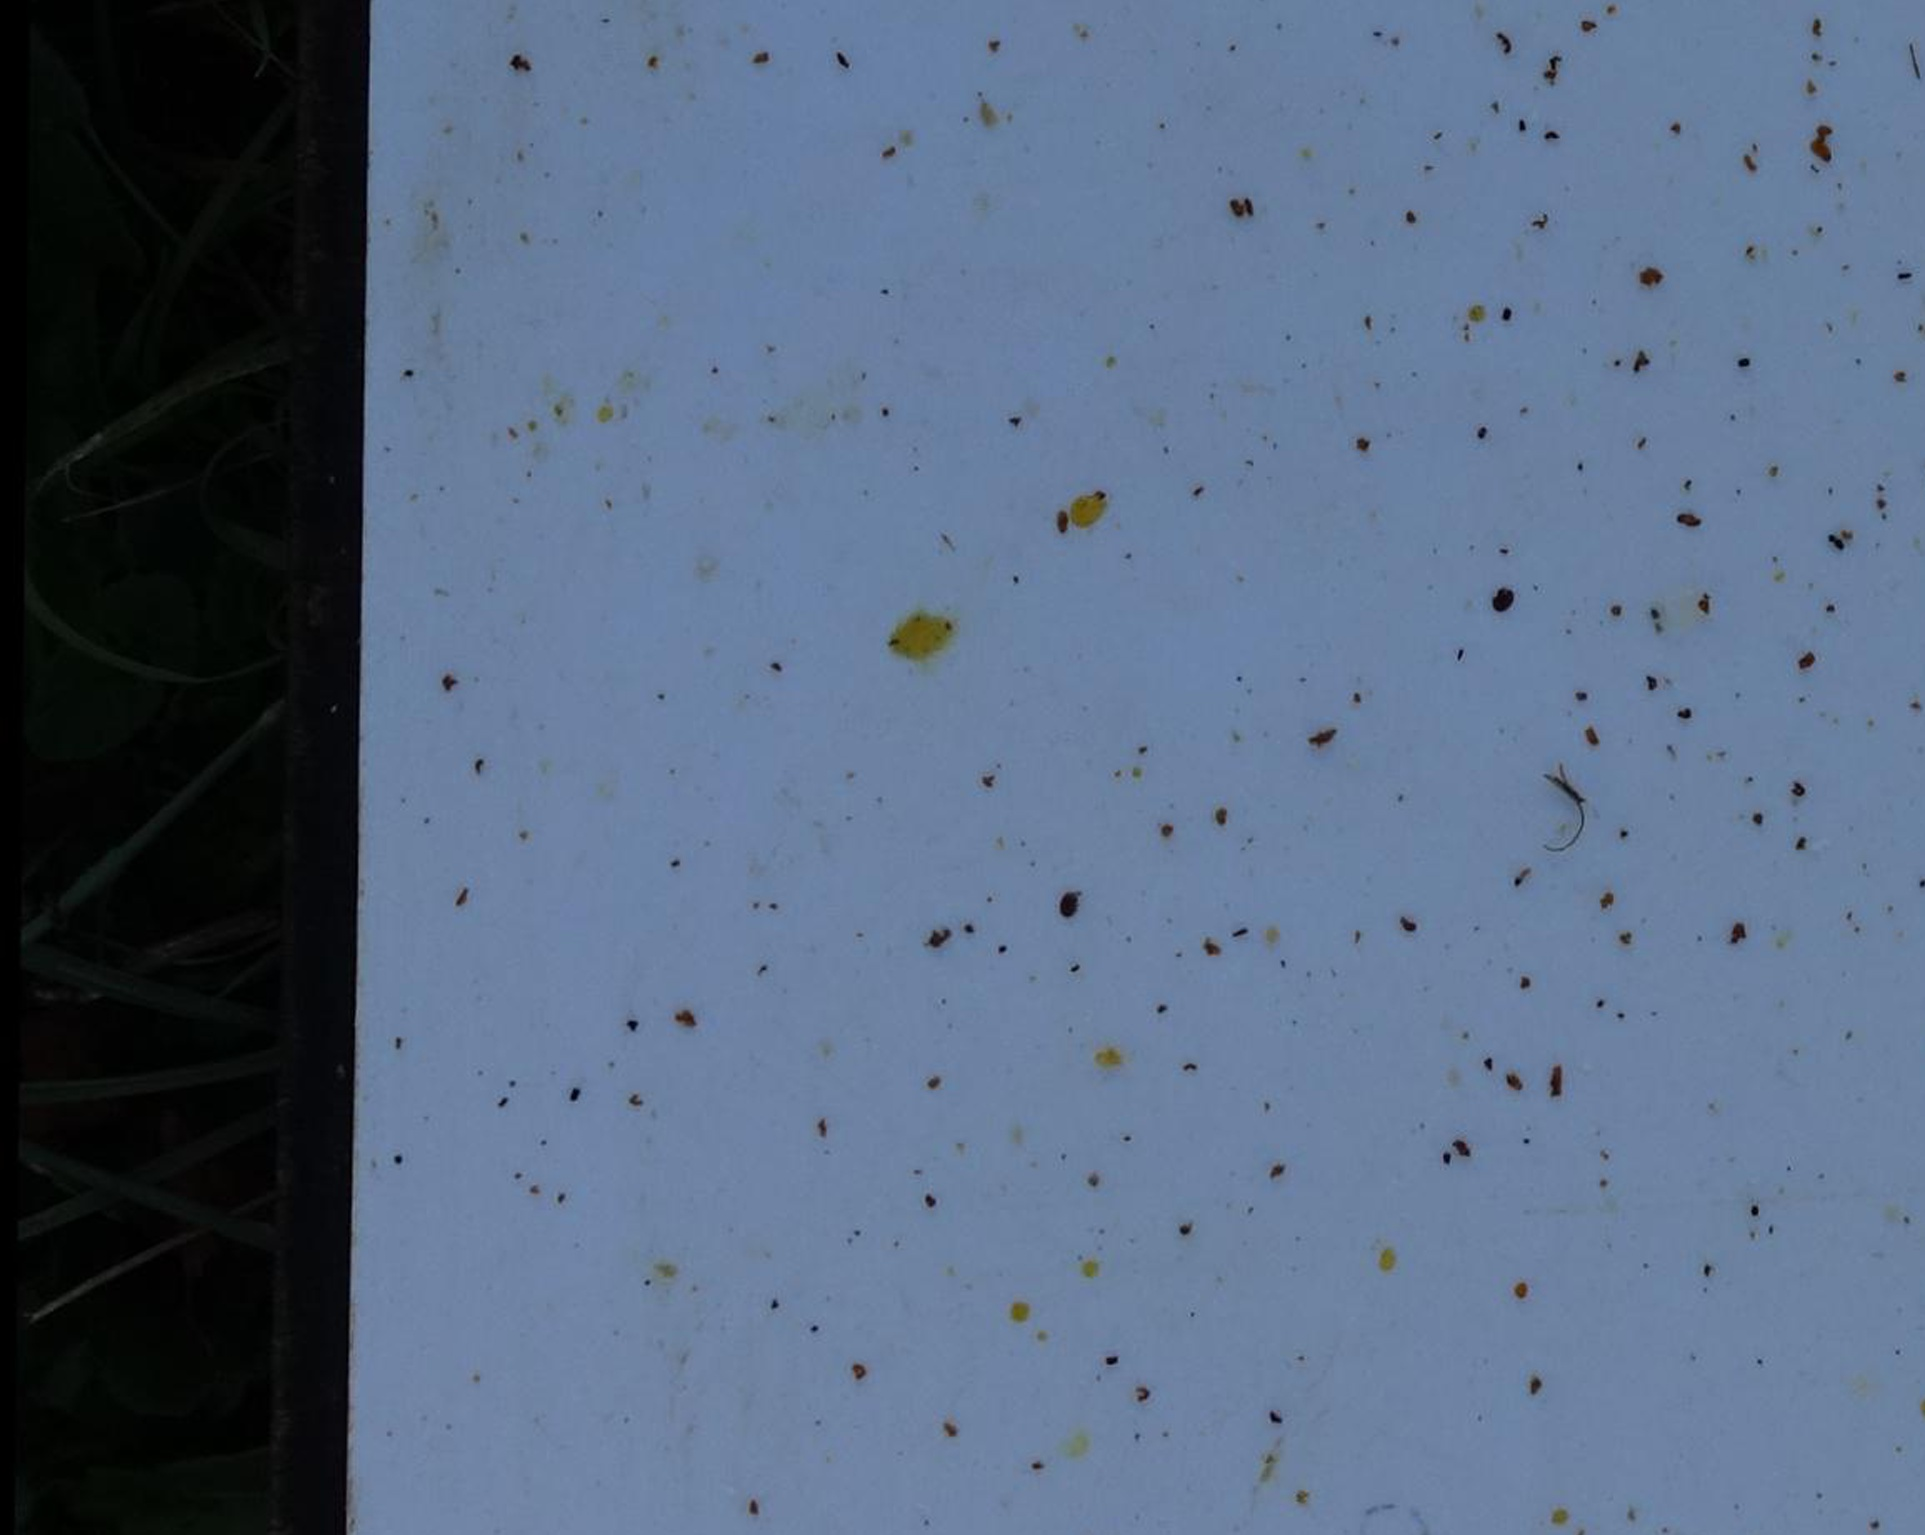Varroa: (1057, 891, 1085, 923), (1490, 583, 1518, 609)
